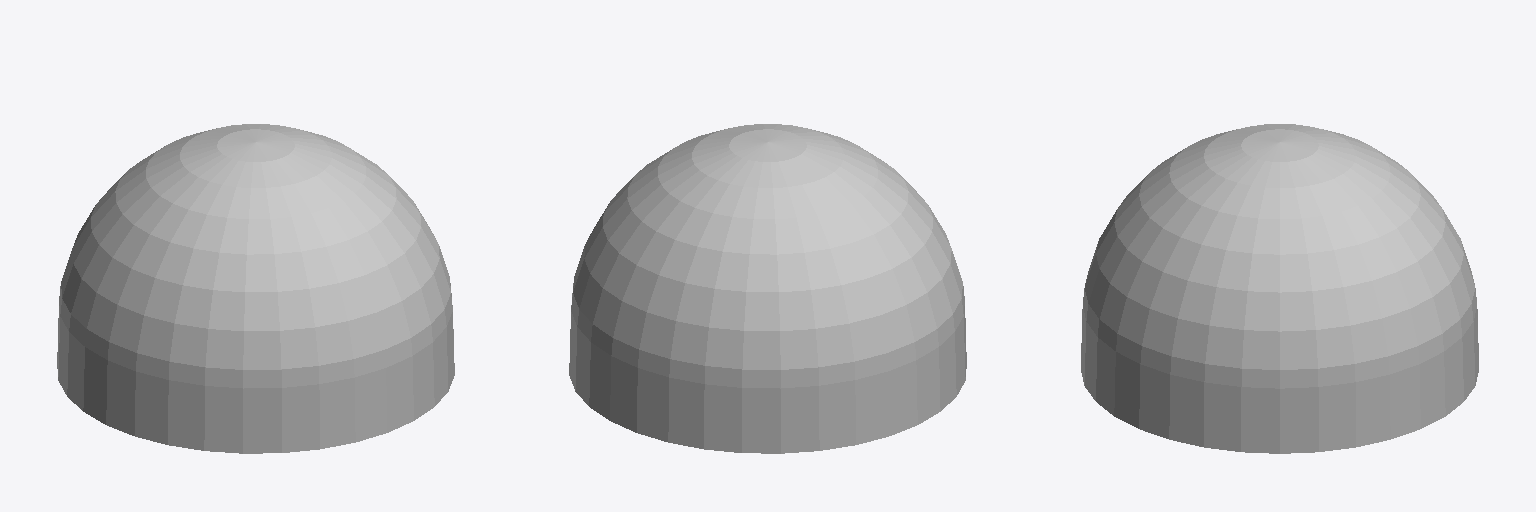
The model's file is dome.obj.
3 renders of one model, left to right at view 1: azimuth 30°, elevation 25°; view 2: azimuth 150°, elevation 25°; view 3: azimuth 270°, elevation 25°, orthographic.
Visible parts, largest first — view 1: Sphere; view 2: Sphere; view 3: Sphere.
Boxes of the visible parts, <box> form: Sphere: <box>57,124,454,453</box>; Sphere: <box>569,124,966,453</box>; Sphere: <box>1081,124,1478,453</box>.
Size of the model in its own units: 9.09 by 5.72 by 9.09.